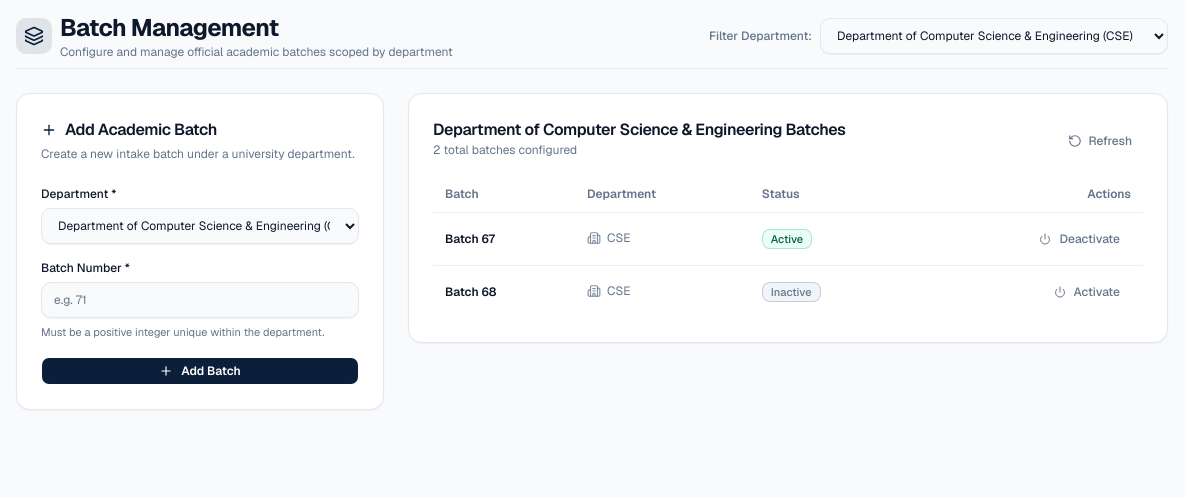
Test: BatchManagementView › displays clear conflict error when creating a duplicate batch
Expected: the text "Batch 67" is shown, x1=433 y1=212 x2=575 y2=266
Type "67" into the number field labelled "Batch Number *" at (200, 300), box x1=41 y1=282 x2=359 y2=318
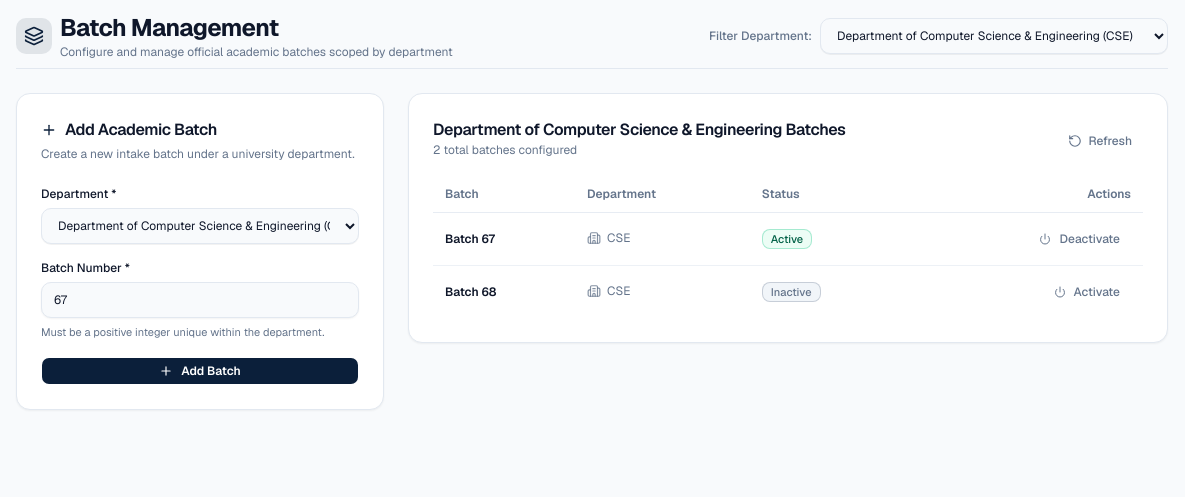
Click the button "Add Batch" at (200, 370), box x1=41 y1=356 x2=359 y2=384
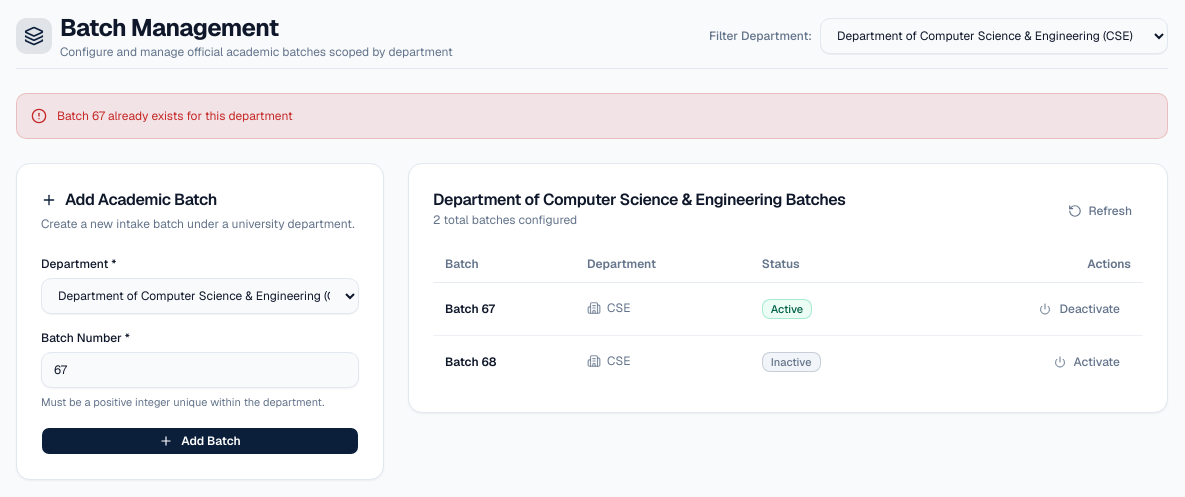
Now the text "Batch 67 already exists for this department" is shown, box x1=57 y1=108 x2=293 y2=124
